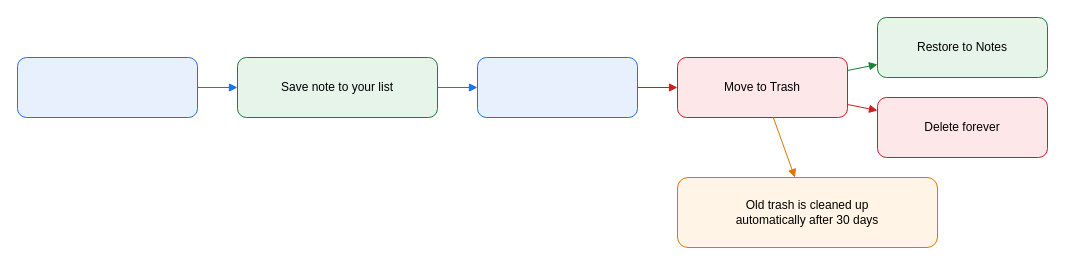
This 1065x265 diagram has some shape labels left out. The shapes that lost their labels are listed below. From the top down, each one's centre as x and y in pixels, then its label:
At pixel 107 87: "Write a new note".
At pixel 557 87: "Edit anytime".
